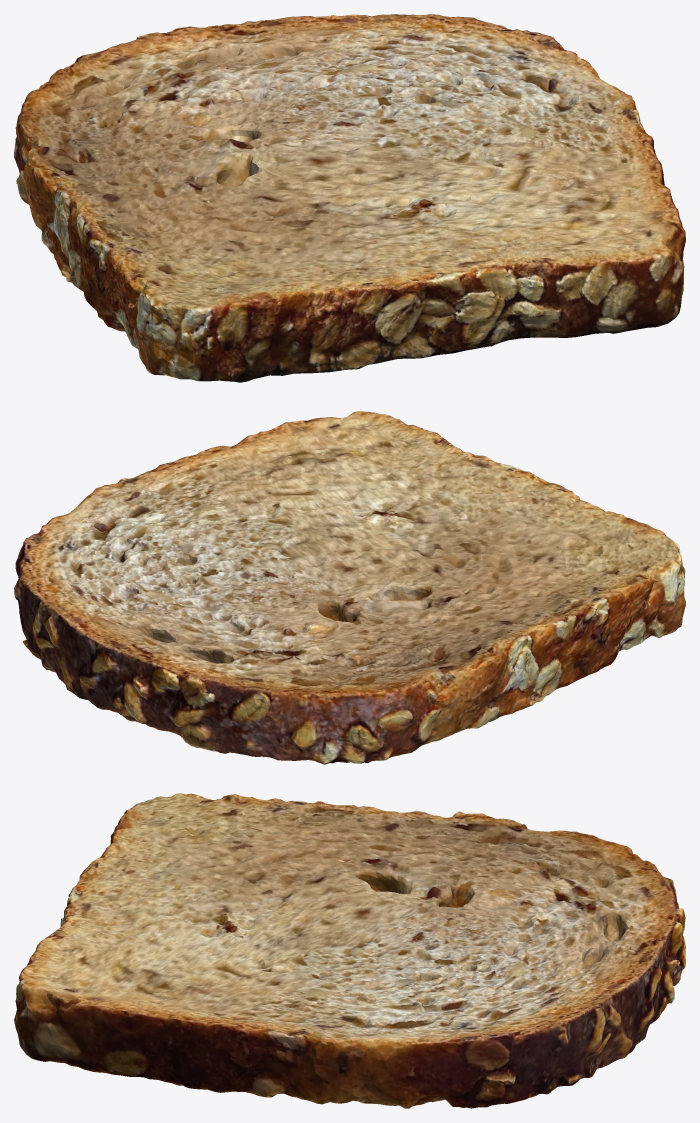
File: Multigrain_C.glb
The picture shows the model from 3 angles, top to bottom: view 1: azimuth 30°, elevation 25°; view 2: azimuth 150°, elevation 25°; view 3: azimuth 270°, elevation 25°; orthographic projection. The views are drawn at different scales.
Size of the model in its own units: 0.1138 by 0.0165 by 0.1243.
1 material, 1 textured.
